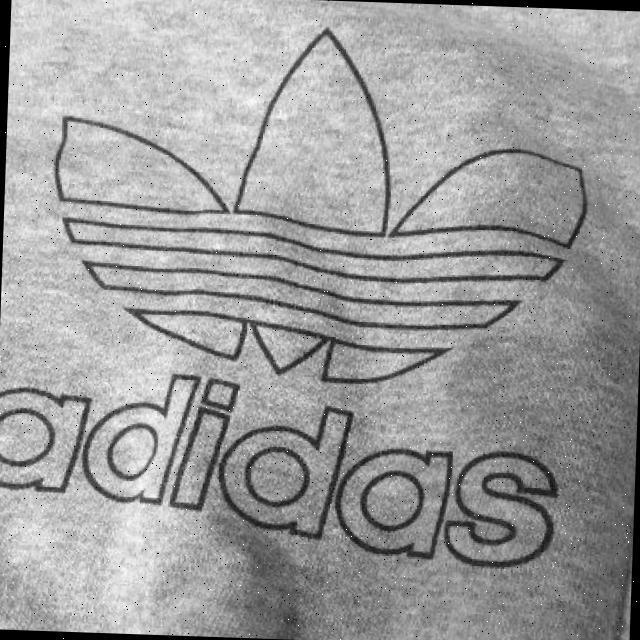Adidas: (33, 6, 612, 404)
